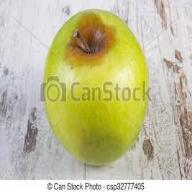apple: (44, 10, 148, 165)
